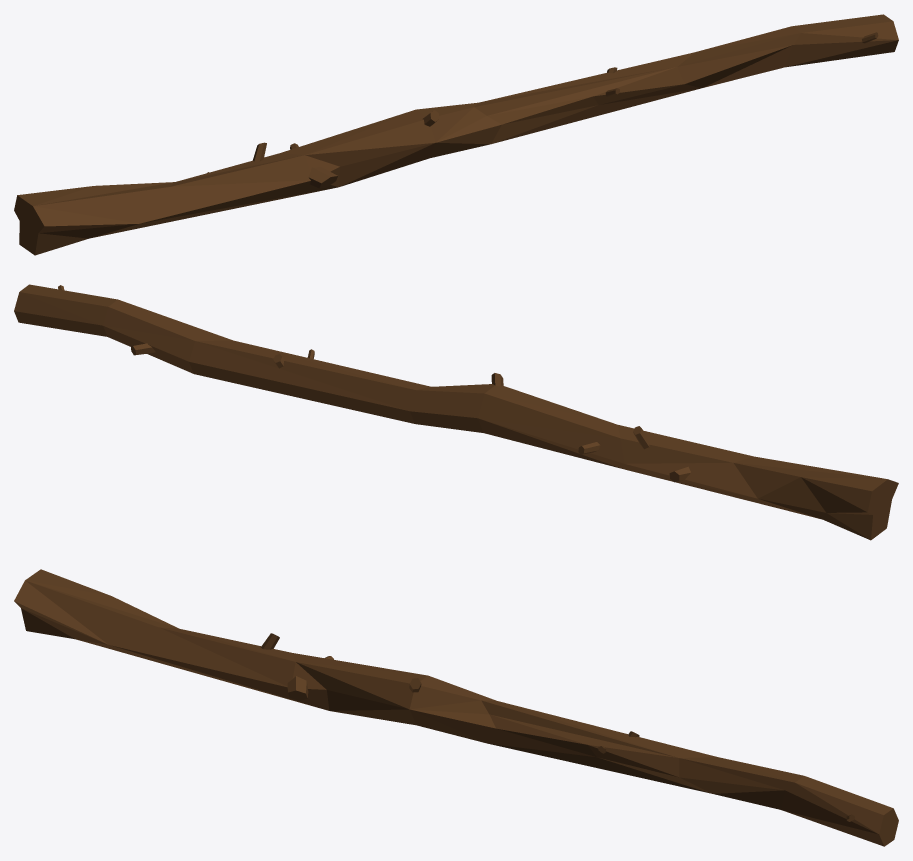
The model's file is tree-pine-log-a.gltf.
The picture shows the model from 3 angles, top to bottom: view 1: azimuth 30°, elevation 25°; view 2: azimuth 150°, elevation 25°; view 3: azimuth 330°, elevation 25°; orthographic projection.
Parts seen in each view (by area): view 1: tree-pine-log-a; view 2: tree-pine-log-a; view 3: tree-pine-log-a.
Boxes of the visible parts, left/top/right/bottom form: tree-pine-log-a: left=14, top=14, right=898, bottom=255; tree-pine-log-a: left=14, top=284, right=898, bottom=540; tree-pine-log-a: left=14, top=569, right=898, bottom=846.
Size of the model in its own units: 0.0748 by 0.00482 by 0.00558.
